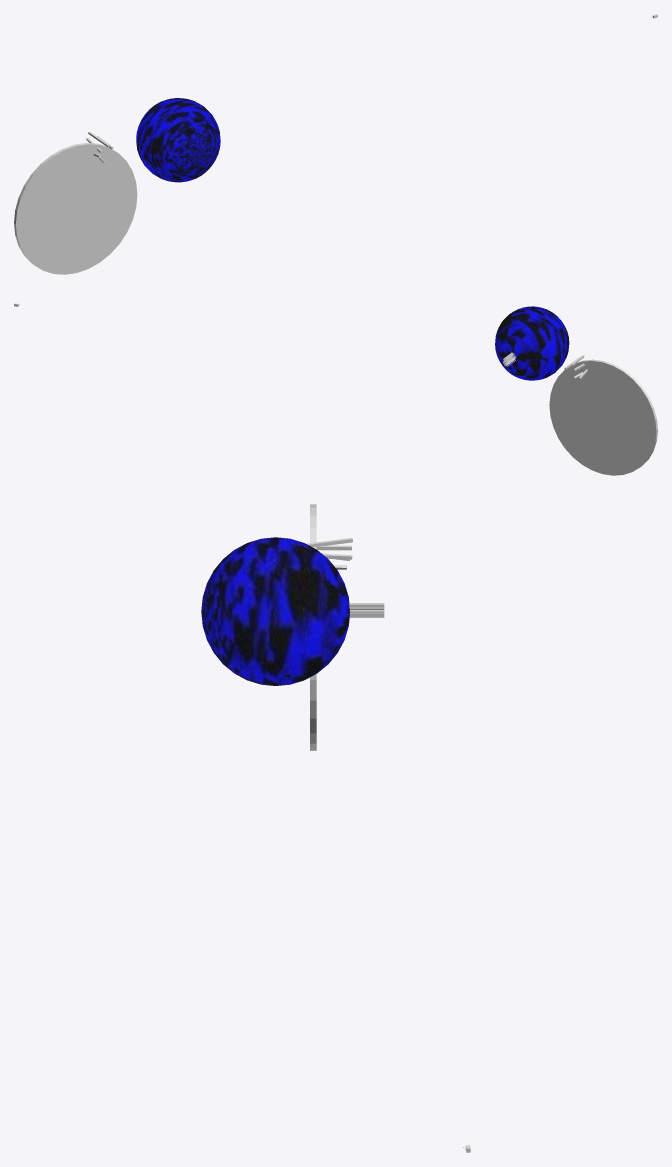
Rendered from mimita-horror-v2.glb.
3 renders of one model, top to bottom at view 1: azimuth 30°, elevation 25°; view 2: azimuth 150°, elevation 25°; view 3: azimuth 270°, elevation 25°, orthographic. The views are drawn at different scales.
Parts seen in each view (by area): view 1: Cylinder, Sphere; view 2: Cylinder, Sphere; view 3: Sphere.
Boxes of the visible parts, x1=… form: Cylinder: x1=14, y1=143, x2=137, y2=274; Sphere: x1=136, y1=98, x2=220, y2=182; Cylinder: x1=549, y1=359, x2=657, y2=475; Sphere: x1=495, y1=306, x2=569, y2=380; Sphere: x1=201, y1=537, x2=349, y2=685.
Bounding box in the file's own units: 2880 × 625 × 556.
Materials: 13 (12 with a texture image).
